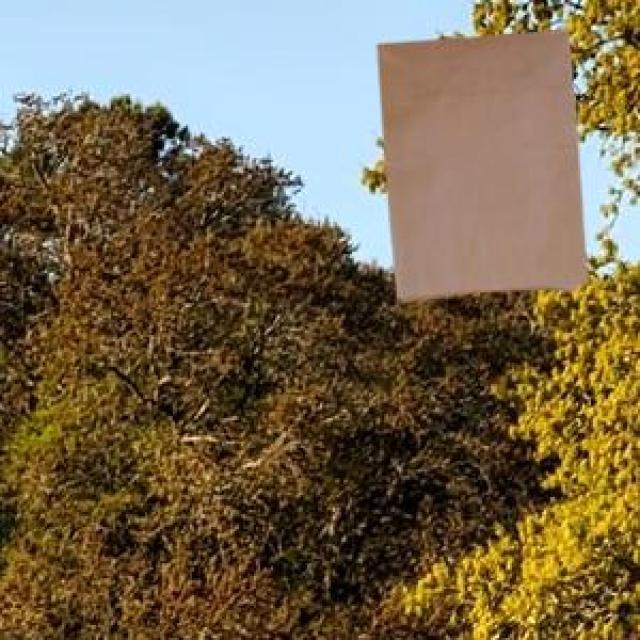Paper_Bag: (374, 27, 584, 300)
